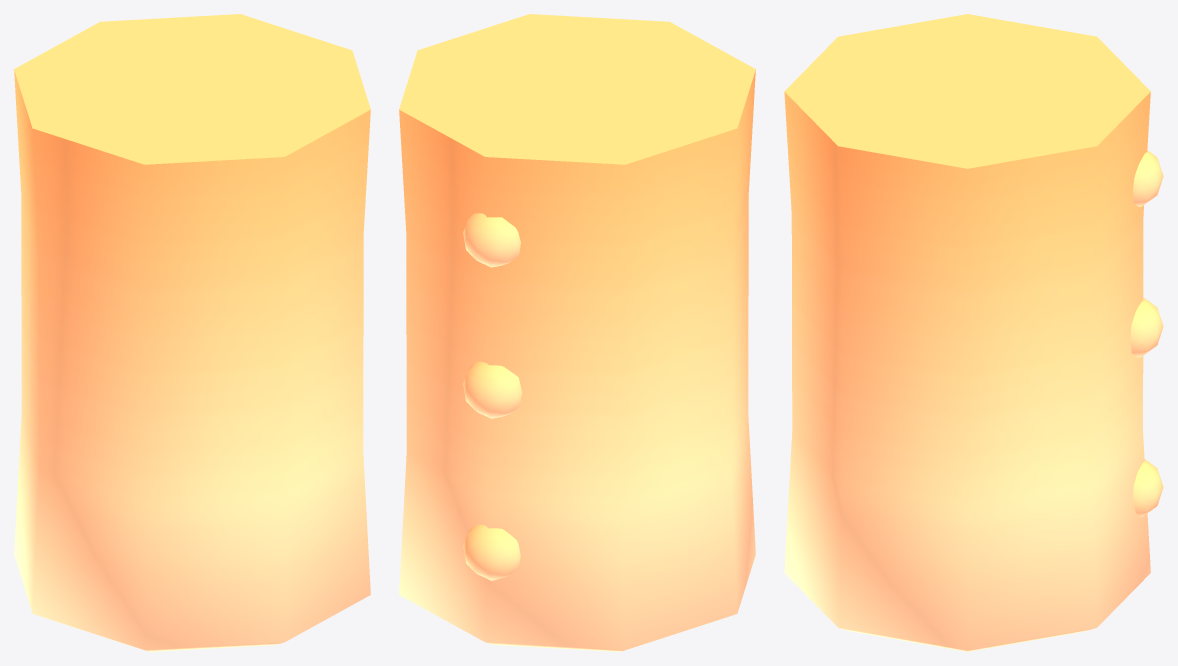
Rendered from wood_grip_109_004.glb.
The picture shows the model from 3 angles, left to right: view 1: azimuth 30°, elevation 25°; view 2: azimuth 150°, elevation 25°; view 3: azimuth 270°, elevation 25°; orthographic projection.
Parts seen in each view (by area): view 1: wood_grip_109.004; view 2: wood_grip_109.004; view 3: wood_grip_109.004.
Boxes of the visible parts, <box> form: wood_grip_109.004: <box>14,14,370,651</box>; wood_grip_109.004: <box>399,14,755,651</box>; wood_grip_109.004: <box>784,14,1163,651</box>.
Bounding box in the file's own units: 2.07 × 3.05 × 2.14.
Materials: 1 (1 with a texture image).
